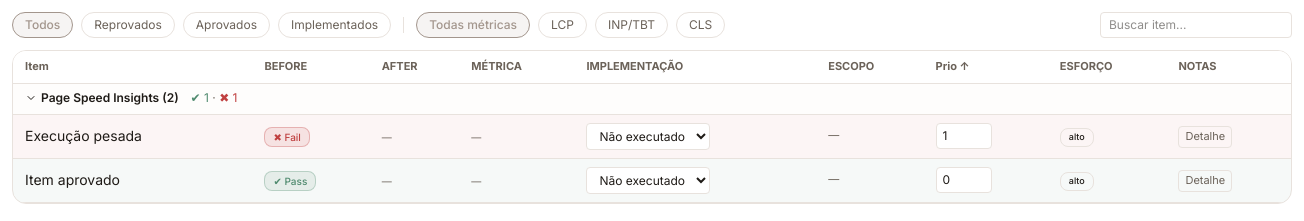
ChecklistGrid › filtro Reprovados esconde os pass
This screenshot has width=1304, height=221.
Click the button "Reprovados". click: (128, 25)
box: left=81, top=12, right=175, bottom=38
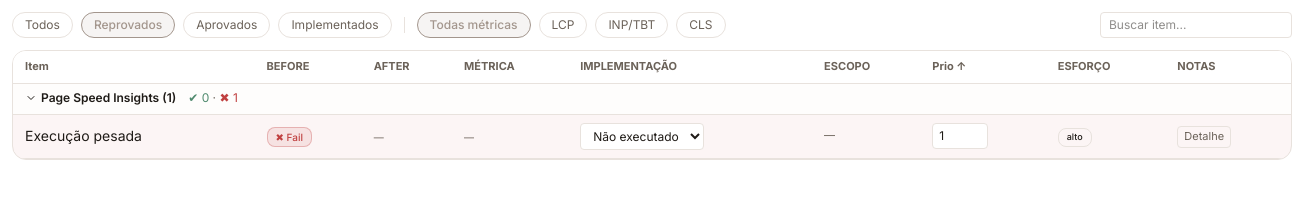
Expected: the text "Execução pesada" is shown, left=13, top=114, right=259, bottom=158
Expected: the text "Item aprovado" is gone
